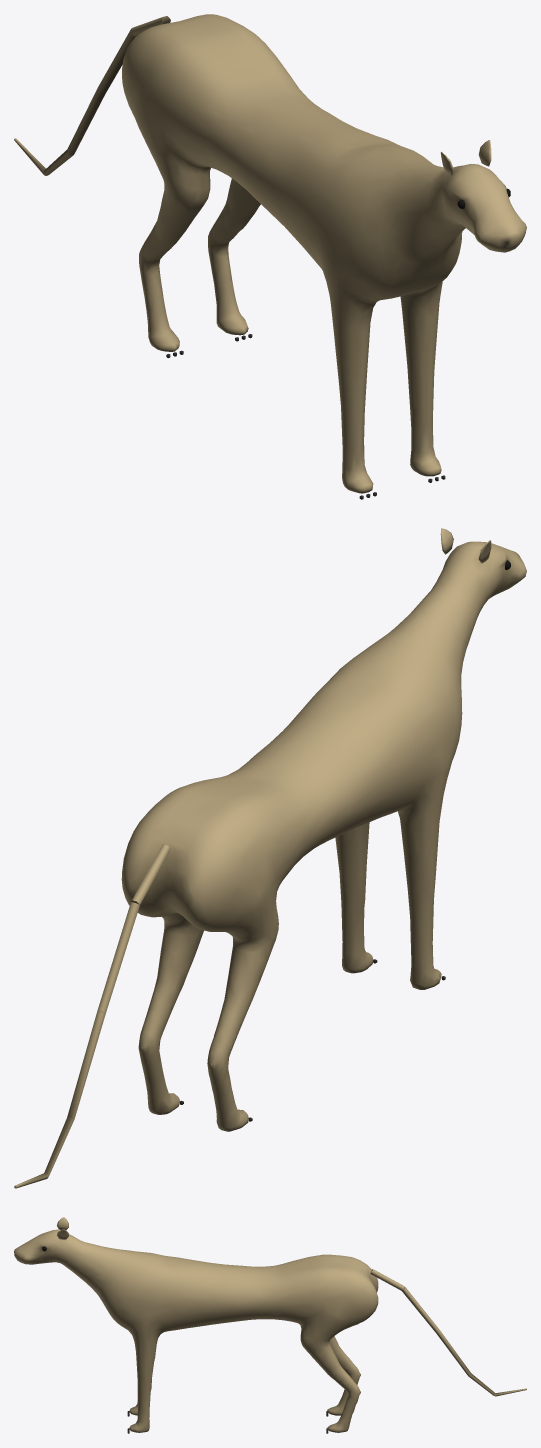
Rendered from gepard.glb.
3 renders of one model, top to bottom at view 1: azimuth 30°, elevation 25°; view 2: azimuth 150°, elevation 25°; view 3: azimuth 270°, elevation 25°, orthographic. The views are drawn at different scales.
Visible parts, largest first — view 1: lack; view 2: lack; view 3: lack.
Part boxes in pixels (box(x1,y1,x2,y2)): lack: box(14, 14, 526, 499); lack: box(14, 528, 526, 1188); lack: box(14, 1217, 526, 1433).
Size of the model in its own units: 0.3168 by 0.9769 by 2.27.
